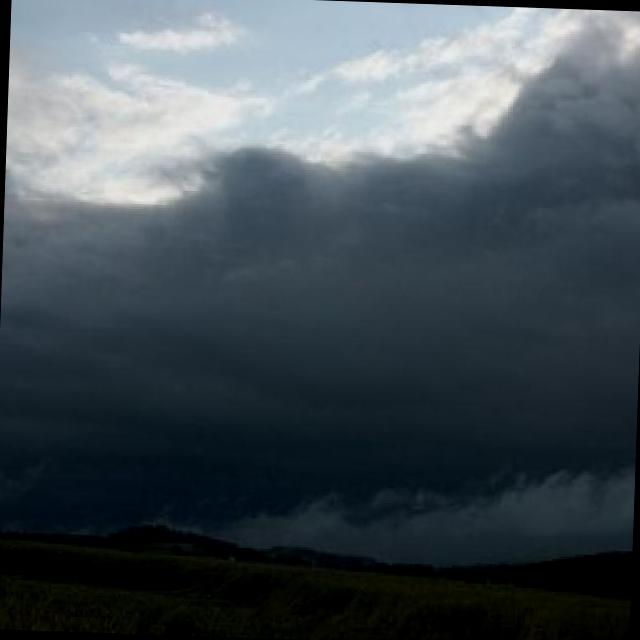nimbostratus: (0, 20, 640, 537)
